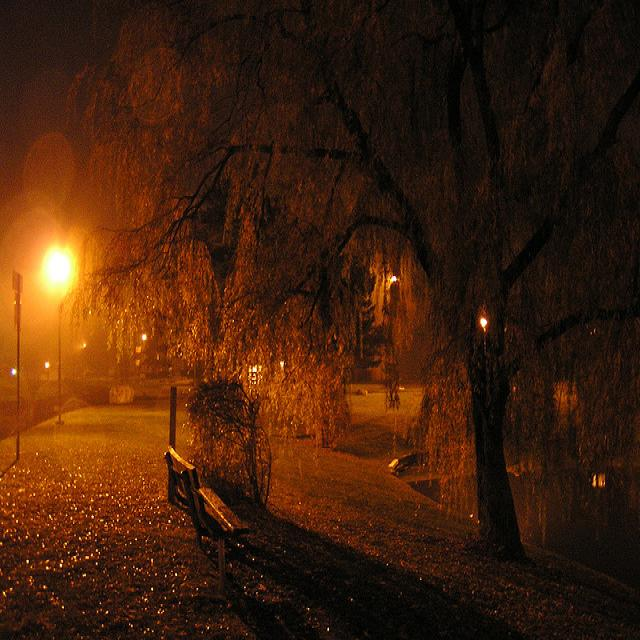chair: (150, 427, 281, 600)
